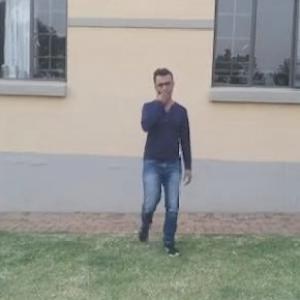follow: (134, 66, 190, 247)
